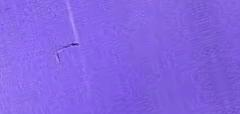snag: (53, 40, 80, 65)
